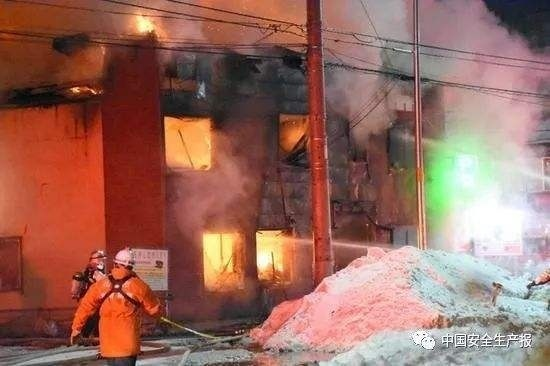fire: (199, 225, 287, 284), (161, 112, 213, 170), (131, 11, 161, 37), (67, 78, 101, 96)
